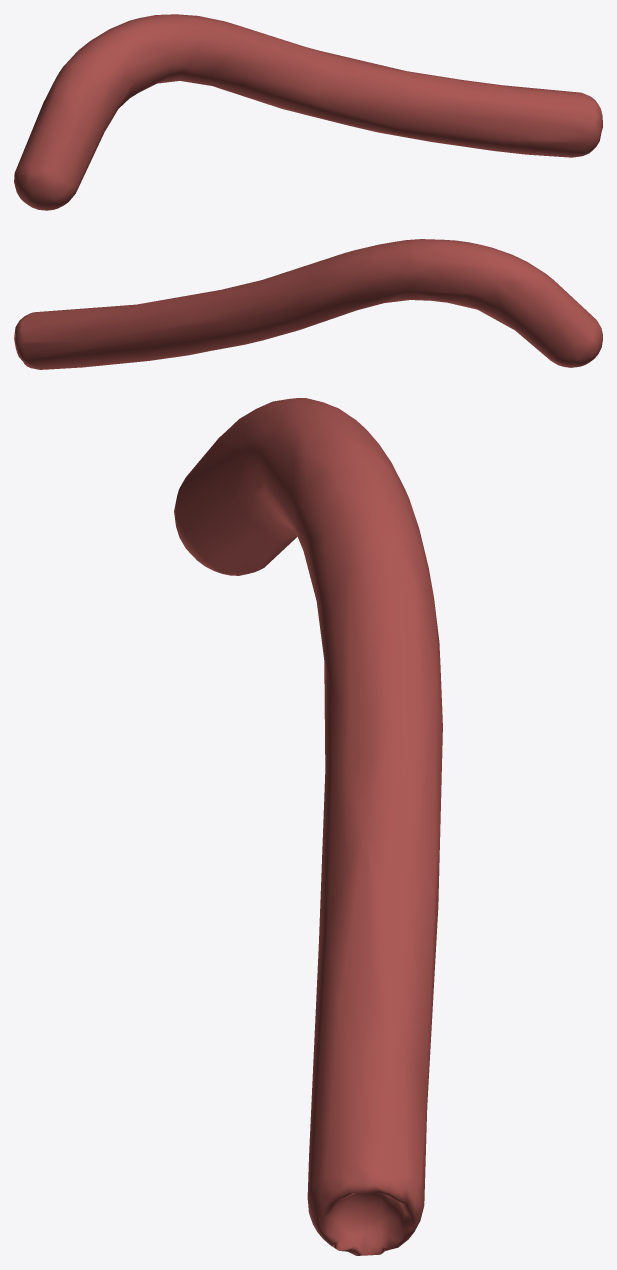
Rendered from FMA4763.glb.
3 views of the same model, one above another, from view 1: azimuth 30°, elevation 25°; view 2: azimuth 150°, elevation 25°; view 3: azimuth 270°, elevation 25° (orthographic). The views are drawn at different scales.
Visible parts, largest first — view 1: FMA4763; view 2: FMA4763; view 3: FMA4763.
Part boxes in pixels (left/top/right/bottom): FMA4763: left=14, top=14, right=602, bottom=210; FMA4763: left=14, top=239, right=602, bottom=369; FMA4763: left=174, top=398, right=442, bottom=1255.
Size of the model in its own units: 0.0752 by 0.0284 by 0.016.
